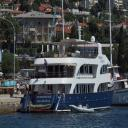cruises: (20, 26, 117, 114)
